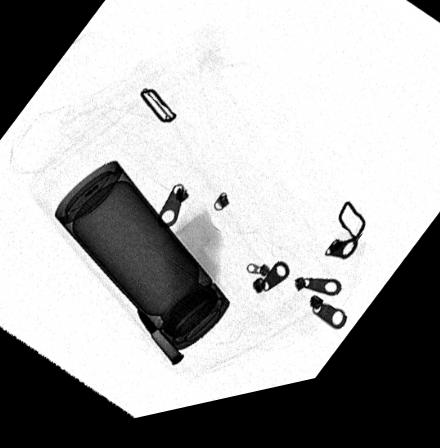Bullet: (134, 309, 186, 375)
